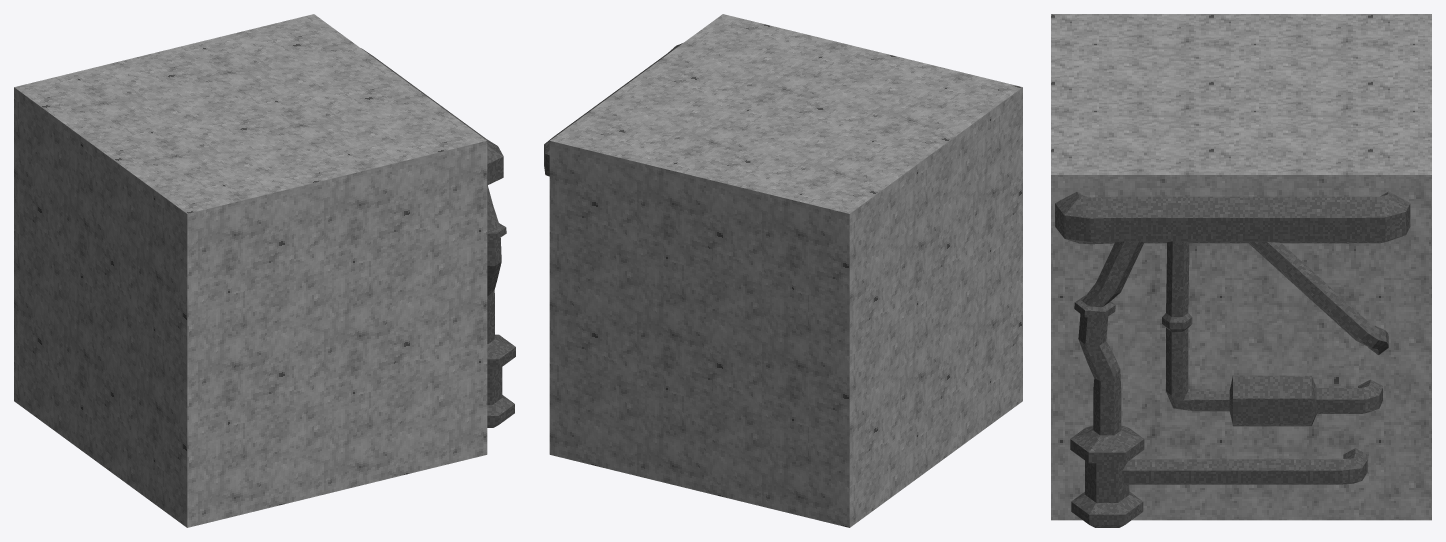
Rendered from wall with pipes.fbx.
The picture shows the model from 3 angles, left to right: view 1: azimuth 30°, elevation 25°; view 2: azimuth 150°, elevation 25°; view 3: azimuth 270°, elevation 25°; orthographic projection. The views are drawn at different scales.
Visible parts, largest first — view 1: Cylinder.002; view 2: Cylinder.002; view 3: Cylinder.002.
Part boxes in pixels (left/top/right/bottom): Cylinder.002: left=14, top=14, right=515, bottom=527; Cylinder.002: left=544, top=14, right=1022, bottom=527; Cylinder.002: left=1051, top=14, right=1431, bottom=527.
Bounding box in the file's own units: 231 × 200 × 200.
